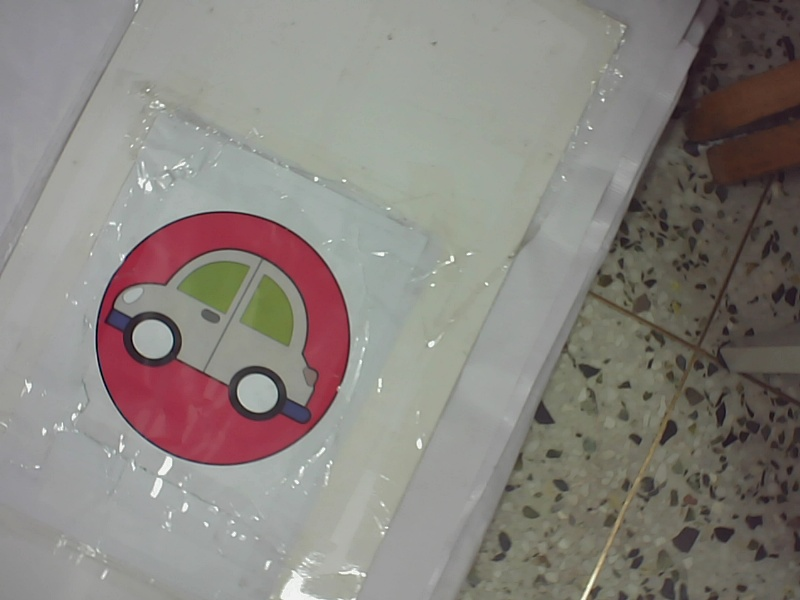areaC: (80, 203, 357, 469)
